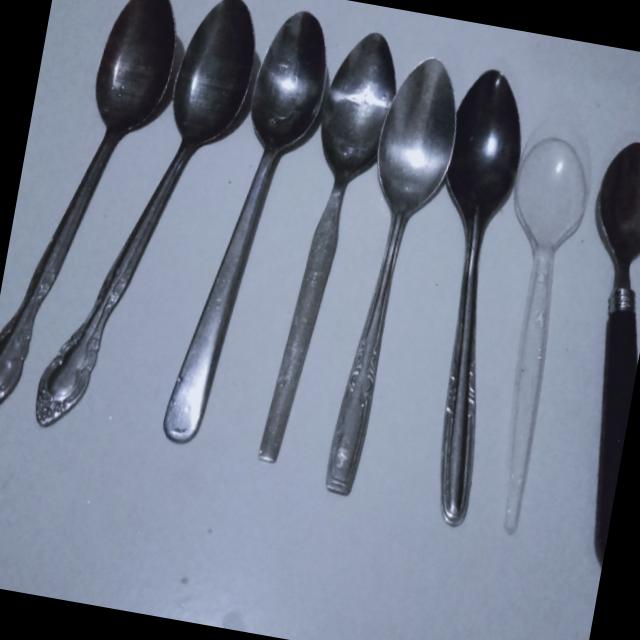spoon: (154, 0, 334, 494), (496, 130, 594, 543)
